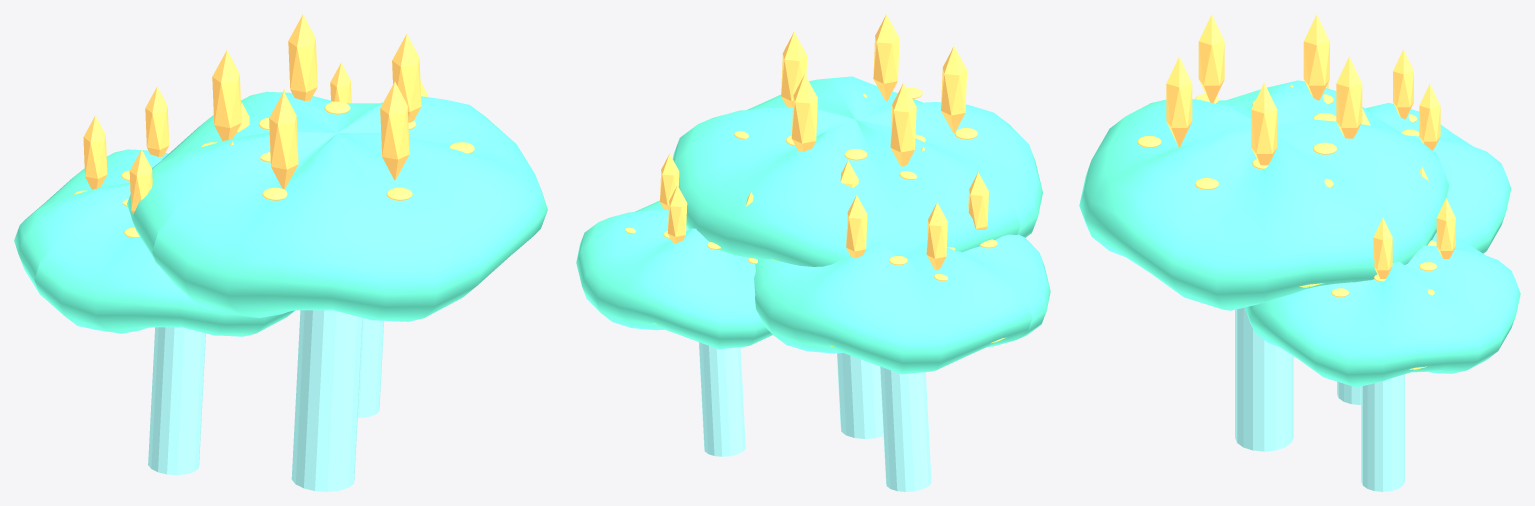
Rendered from mushroom-mutant-cluster.glb.
The picture shows the model from 3 angles, left to right: view 1: azimuth 30°, elevation 25°; view 2: azimuth 150°, elevation 25°; view 3: azimuth 270°, elevation 25°; orthographic projection. The views are drawn at different scales.
Visible parts, largest first — view 1: Mushroom crown.008, Mushroom crown.006, Mushroom stalk.008, Mushroom stalk.006, Mushroom stalk.007, Mutation crystal bud.019, Mutation crystal bud.018, Mutation crystal bud.017, Mutation crystal bud.016, Mutation crystal bud.015, Mutation crystal bud.007, Mutation crystal bud.006 (+2 smaller); view 2: Mushroom crown.008, Mushroom crown.006, Mushroom crown.007, Mushroom stalk.006, Mushroom stalk.007, Mushroom stalk.008, Mutation crystal bud.019, Mutation crystal bud.018, Mutation crystal bud.017, Mutation crystal bud.016, Mutation crystal bud.015, Mutation crystal bud.007 (+4 smaller); view 3: Mushroom crown.008, Mushroom crown.007, Mushroom stalk.008, Mushroom crown.006, Mushroom stalk.007, Mutation crystal bud.019, Mutation crystal bud.018, Mutation crystal bud.017, Mutation crystal bud.015, Mutation crystal bud.016, Mutation crystal bud.007, Mutation crystal bud.006 (+2 smaller).
Boxes of the visible parts, bbox=[...] form: Mushroom crown.008: bbox=[127, 91, 547, 321]; Mushroom crown.006: bbox=[14, 149, 294, 336]; Mushroom stalk.008: bbox=[291, 310, 362, 491]; Mushroom stalk.006: bbox=[148, 327, 205, 474]; Mushroom stalk.007: bbox=[357, 318, 383, 417]; Mutation crystal bud.019: bbox=[380, 81, 409, 180]; Mutation crystal bud.018: bbox=[269, 91, 298, 189]; Mutation crystal bud.017: bbox=[212, 50, 241, 140]; Mutation crystal bud.016: bbox=[288, 14, 317, 100]; Mutation crystal bud.015: bbox=[392, 34, 421, 122]; Mutation crystal bud.007: bbox=[83, 115, 107, 189]; Mutation crystal bud.006: bbox=[145, 86, 169, 156]; Mushroom crown.008: bbox=[672, 76, 1042, 266]; Mushroom crown.006: bbox=[754, 234, 1050, 374]; Mushroom crown.007: bbox=[576, 200, 772, 349]; Mushroom stalk.006: bbox=[880, 366, 931, 491]; Mushroom stalk.007: bbox=[698, 342, 745, 456]; Mushroom stalk.008: bbox=[837, 353, 883, 438]; Mutation crystal bud.019: bbox=[873, 14, 899, 101]; Mutation crystal bud.018: bbox=[941, 46, 967, 133]; Mutation crystal bud.017: bbox=[890, 83, 916, 166]; Mutation crystal bud.016: bbox=[791, 74, 817, 151]; Mutation crystal bud.015: bbox=[781, 31, 807, 107]; Mutation crystal bud.007: bbox=[926, 202, 947, 270]; Mushroom crown.008: bbox=[1079, 80, 1449, 310]; Mushroom crown.007: bbox=[1245, 232, 1520, 386]; Mushroom stalk.008: bbox=[1235, 307, 1293, 451]; Mushroom crown.006: bbox=[1365, 103, 1511, 253]; Mushroom stalk.007: bbox=[1361, 374, 1404, 491]; Mutation crystal bud.019: bbox=[1166, 56, 1192, 147]; Mutation crystal bud.018: bbox=[1198, 14, 1224, 102]; Mutation crystal bud.017: bbox=[1303, 14, 1329, 100]; Mutation crystal bud.015: bbox=[1251, 82, 1277, 165]; Mutation crystal bud.016: bbox=[1336, 56, 1362, 138]; Mutation crystal bud.007: bbox=[1393, 49, 1413, 119]; Mutation crystal bud.006: bbox=[1419, 83, 1440, 150].
Size of the model in its own units: 3.47 by 2.93 by 2.97.
